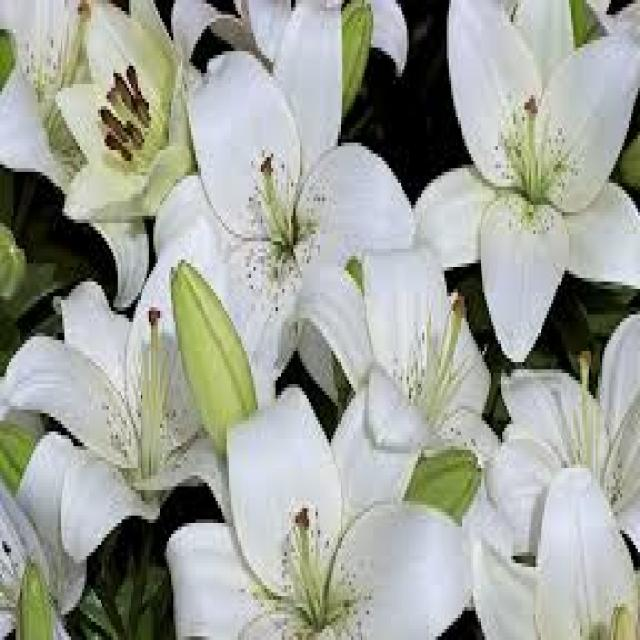lily: (415, 0, 640, 349)
